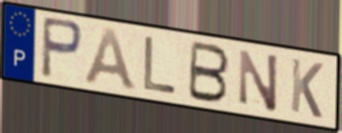A: (82, 25, 140, 94)
B: (186, 39, 232, 105)
K: (289, 56, 326, 121)
L: (142, 34, 179, 96)
N: (237, 47, 280, 115)
P: (39, 14, 85, 82)
